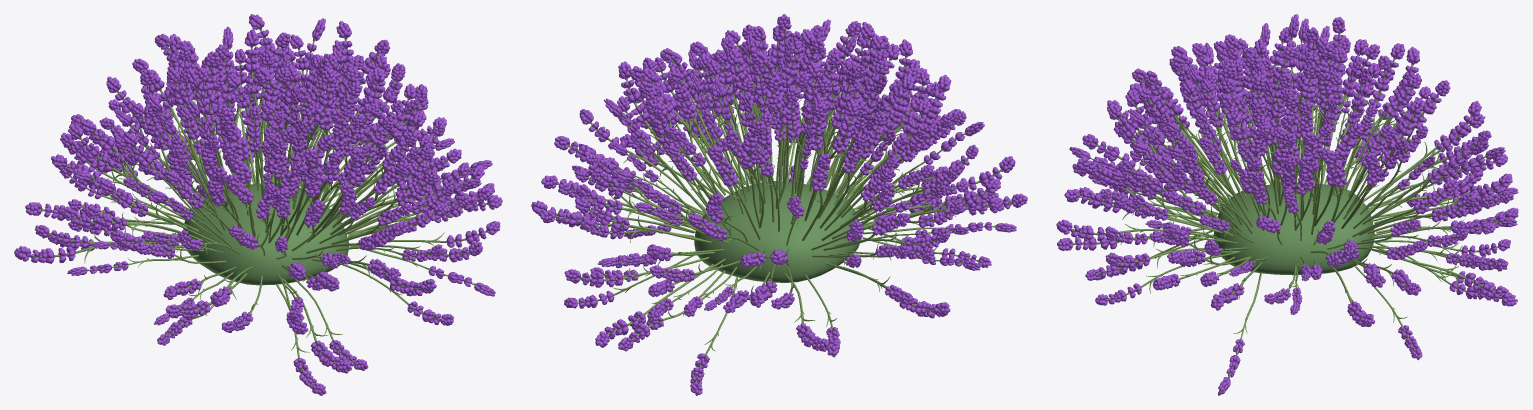
File: Lavender 3D Model.glb
3 renders of one model, left to right at view 1: azimuth 30°, elevation 25°; view 2: azimuth 150°, elevation 25°; view 3: azimuth 270°, elevation 25°, orthographic. The views are drawn at different scales.
Parts seen in each view (by area): view 1: Lavender_0; view 2: Lavender_0; view 3: Lavender_0.
Part boxes in pixels (<box>): Lavender_0: <box>14,14,502,395</box>; Lavender_0: <box>531,14,1027,395</box>; Lavender_0: <box>1056,14,1518,395</box>.
Size of the model in its own units: 1.96 by 1.23 by 1.94.
